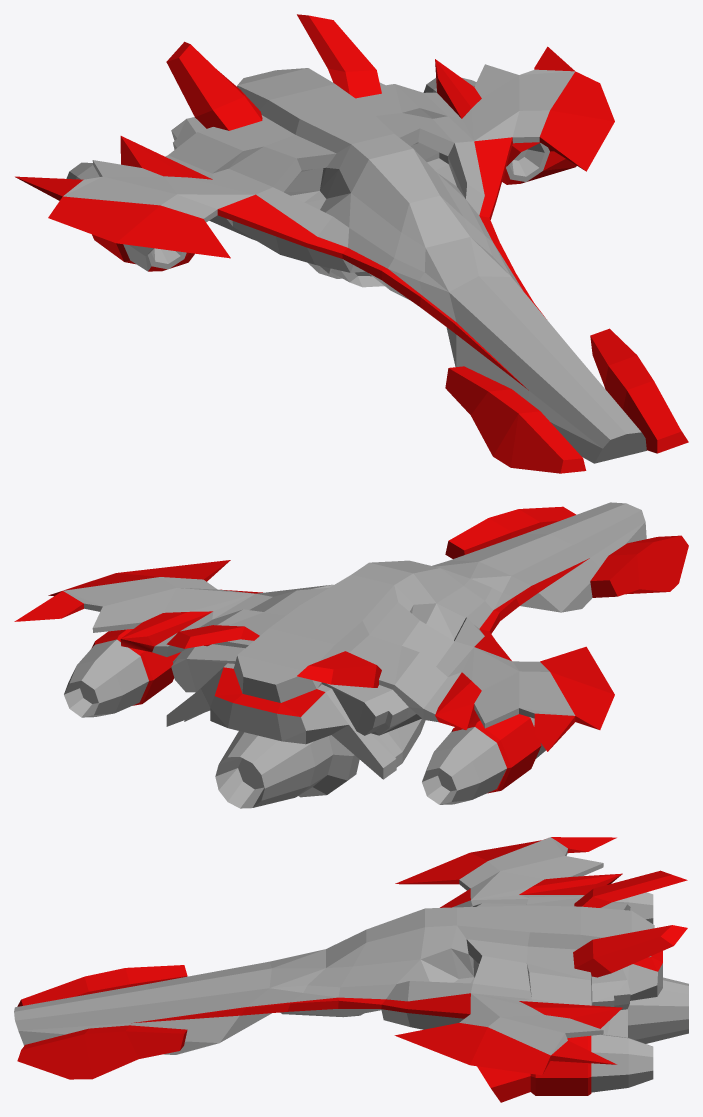
Rendered from Genyx1.fbx.
3 renders of one model, top to bottom at view 1: azimuth 30°, elevation 25°; view 2: azimuth 150°, elevation 25°; view 3: azimuth 270°, elevation 25°, orthographic. The views are drawn at different scales.
Visible parts, largest first — view 1: Genyx1_diffuse, Genyx1_color; view 2: Genyx1_diffuse, Genyx1_color; view 3: Genyx1_diffuse, Genyx1_color.
Part boxes in pixels (bbox=[...]): Genyx1_diffuse: bbox=[63, 64, 646, 463]; Genyx1_color: bbox=[15, 14, 688, 473]; Genyx1_diffuse: bbox=[63, 502, 646, 808]; Genyx1_color: bbox=[14, 506, 688, 793]; Genyx1_diffuse: bbox=[14, 837, 688, 1092]; Genyx1_color: bbox=[17, 837, 687, 1102].
Size of the model in its own units: 4 by 1.27 by 4.84.
